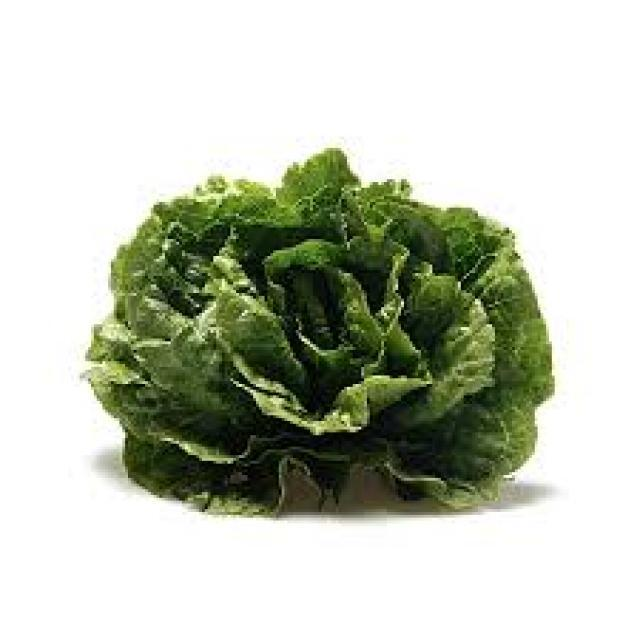Lettuce: (82, 144, 556, 514)
